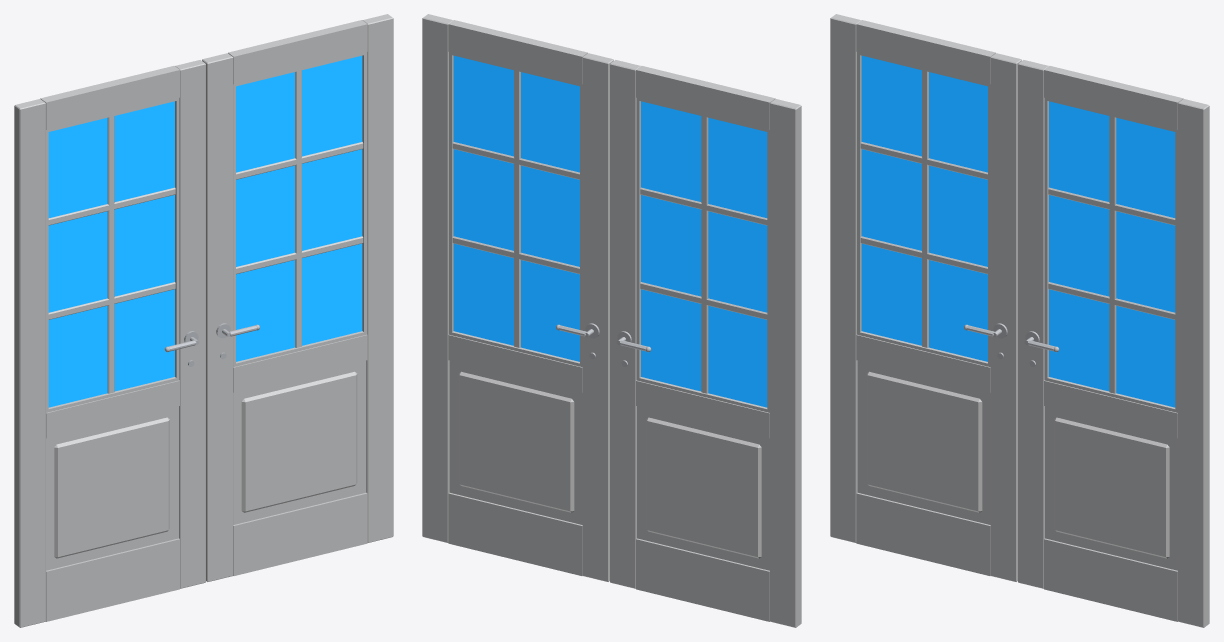
The model's file is porta_dupla_vidro_6_branca.glb.
3 views of the same model, side by side, from view 1: azimuth 30°, elevation 25°; view 2: azimuth 150°, elevation 25°; view 3: azimuth 330°, elevation 25° (orthographic).
Visible parts, largest first — view 1: porta_dupla_vidro_6_branca; view 2: porta_dupla_vidro_6_branca; view 3: porta_dupla_vidro_6_branca.
Part boxes in pixels (x1,y1,x2,y2): porta_dupla_vidro_6_branca: (14, 14, 393, 627); porta_dupla_vidro_6_branca: (422, 14, 801, 627); porta_dupla_vidro_6_branca: (830, 14, 1209, 627).
Bounding box in the file's own units: 1.56 × 2.07 × 0.143.
